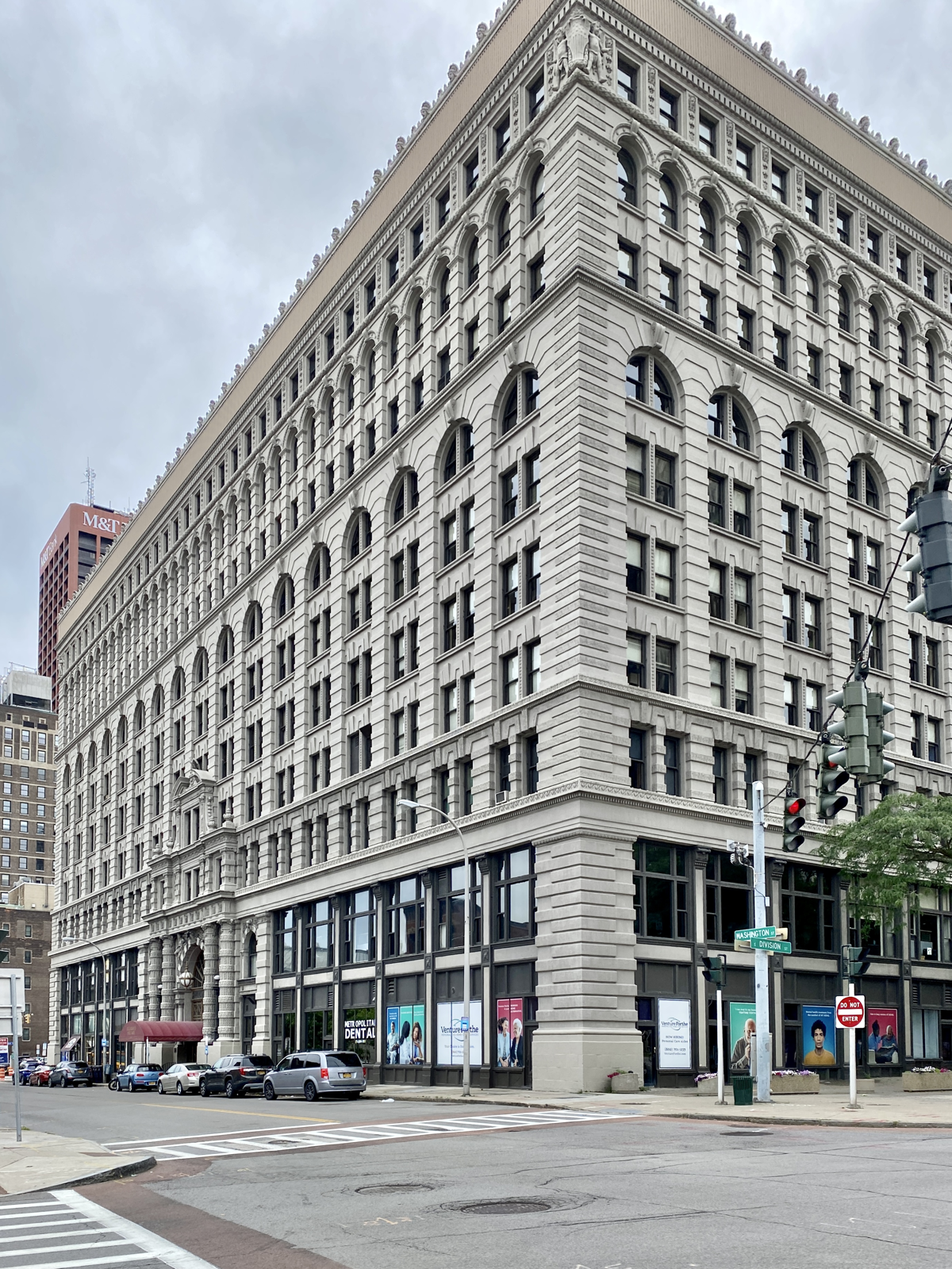fachada: (36, 20, 952, 1118), (8, 638, 60, 1091), (40, 488, 131, 623)
